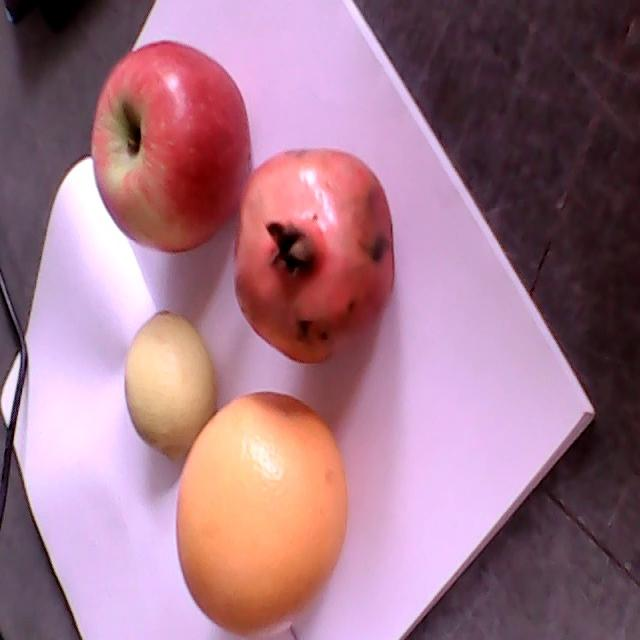apple: (90, 40, 251, 253)
lemon: (124, 309, 214, 464)
orange: (177, 390, 350, 639)
pomegranate: (233, 148, 395, 364)
